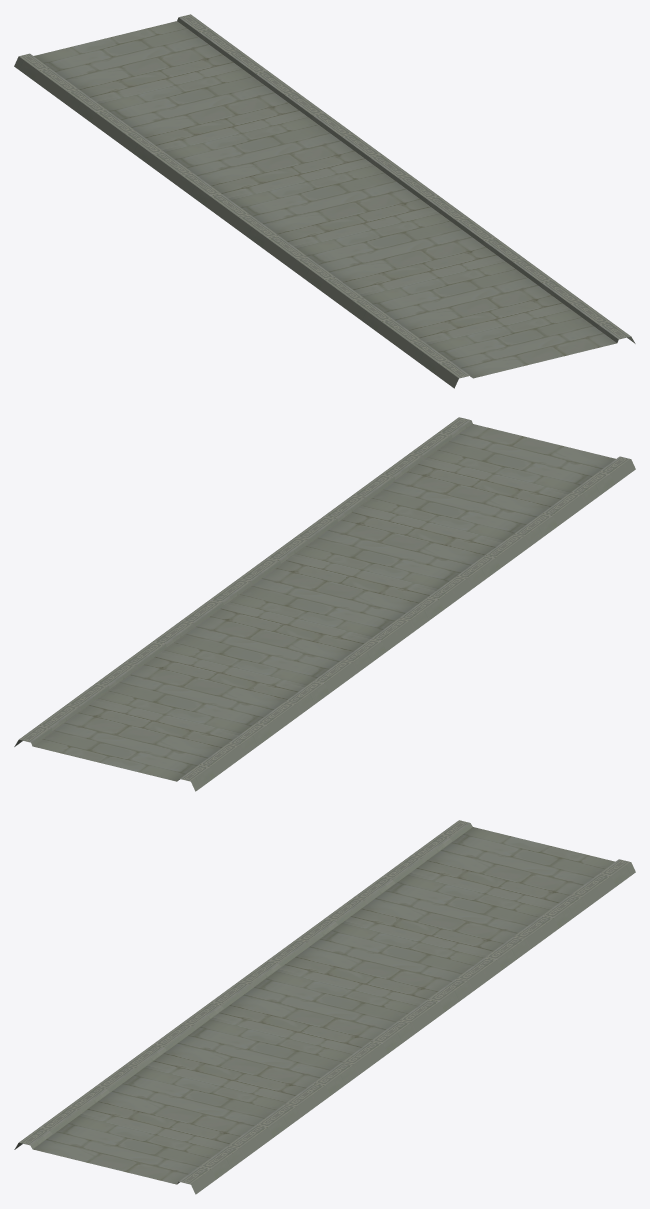
The model's file is lumian_Forest_01.FBX.
3 views of the same model, one above another, from view 1: azimuth 30°, elevation 25°; view 2: azimuth 150°, elevation 25°; view 3: azimuth 330°, elevation 25° (orthographic).
Parts seen in each view (by area): view 1: lumian_Forest_01; view 2: lumian_Forest_01; view 3: lumian_Forest_01.
Part boxes in pixels (x1,y1,x2,y2): lumian_Forest_01: [14, 14, 635, 388]; lumian_Forest_01: [14, 417, 635, 791]; lumian_Forest_01: [14, 820, 635, 1194].
Size of the model in its own units: 719 by 34.03 by 3020.
